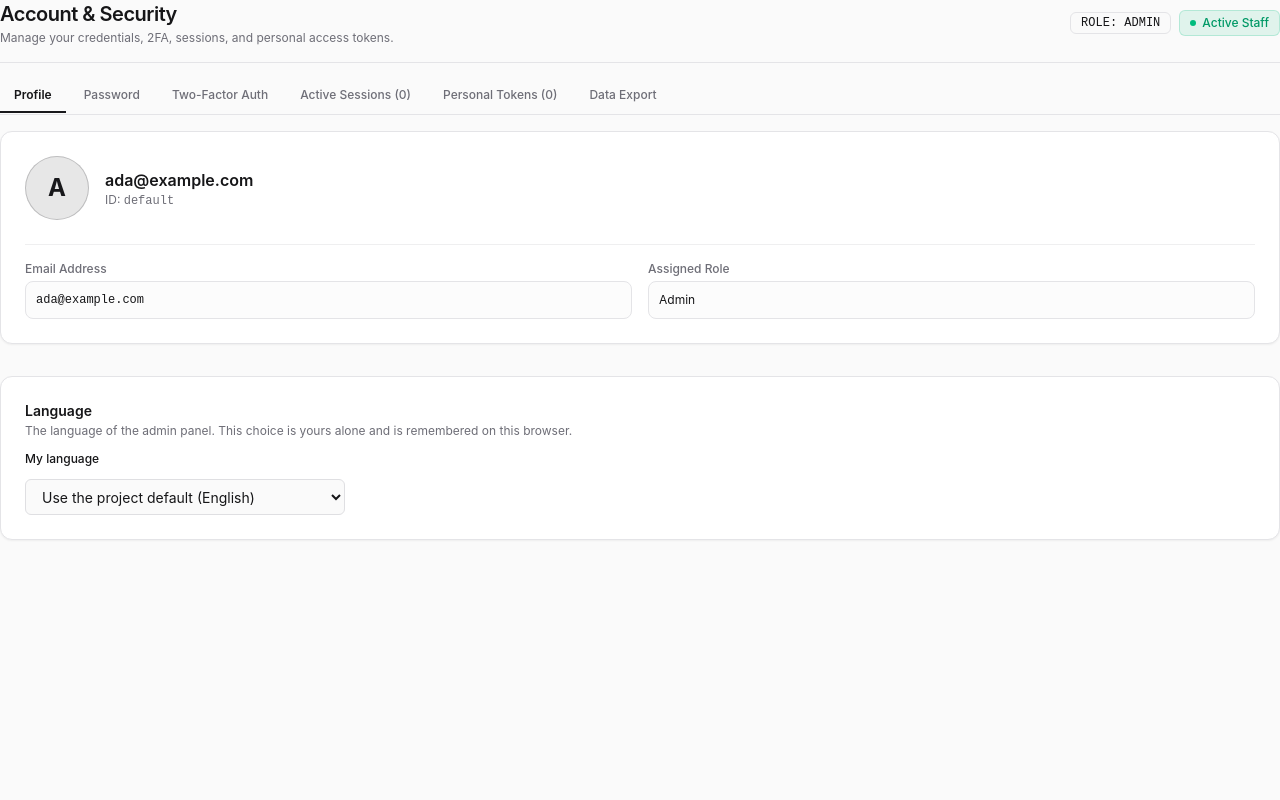
Scenario: AccountView › creates a personal token and shows it once for copying
Click the button "Personal Tokens (0)" at (500, 96), box [429, 79, 571, 113]
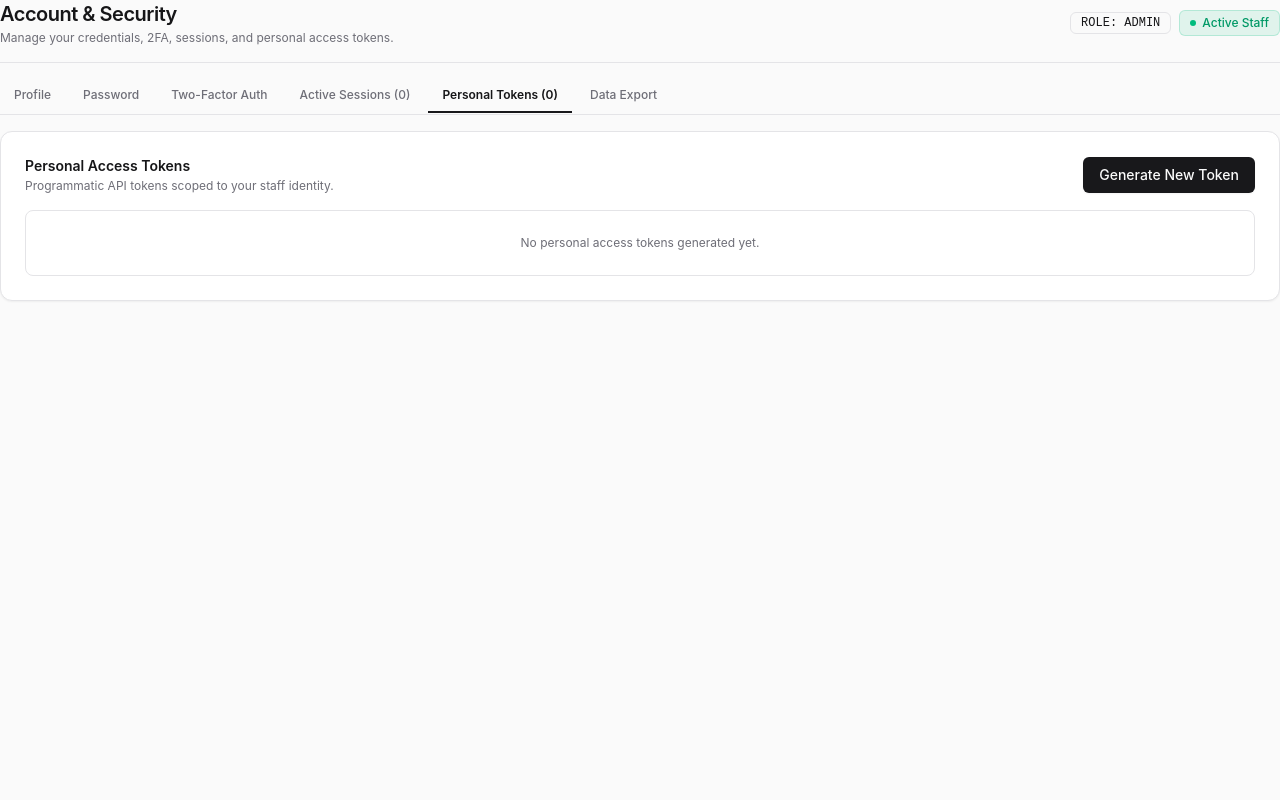
Click the button "Generate New Token" at (1169, 175), box [1083, 157, 1255, 193]
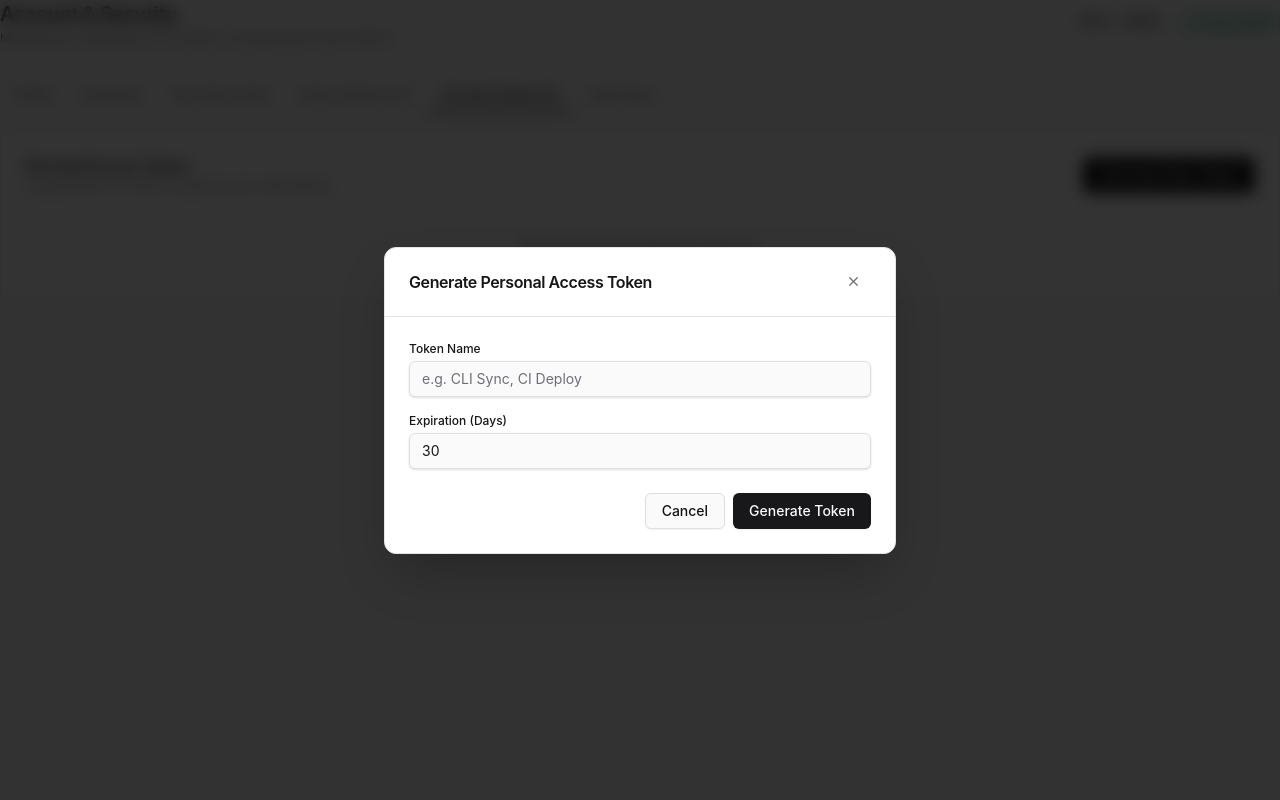
Type "CI token" into the field labelled "Token Name" at (640, 378), box [409, 360, 871, 396]
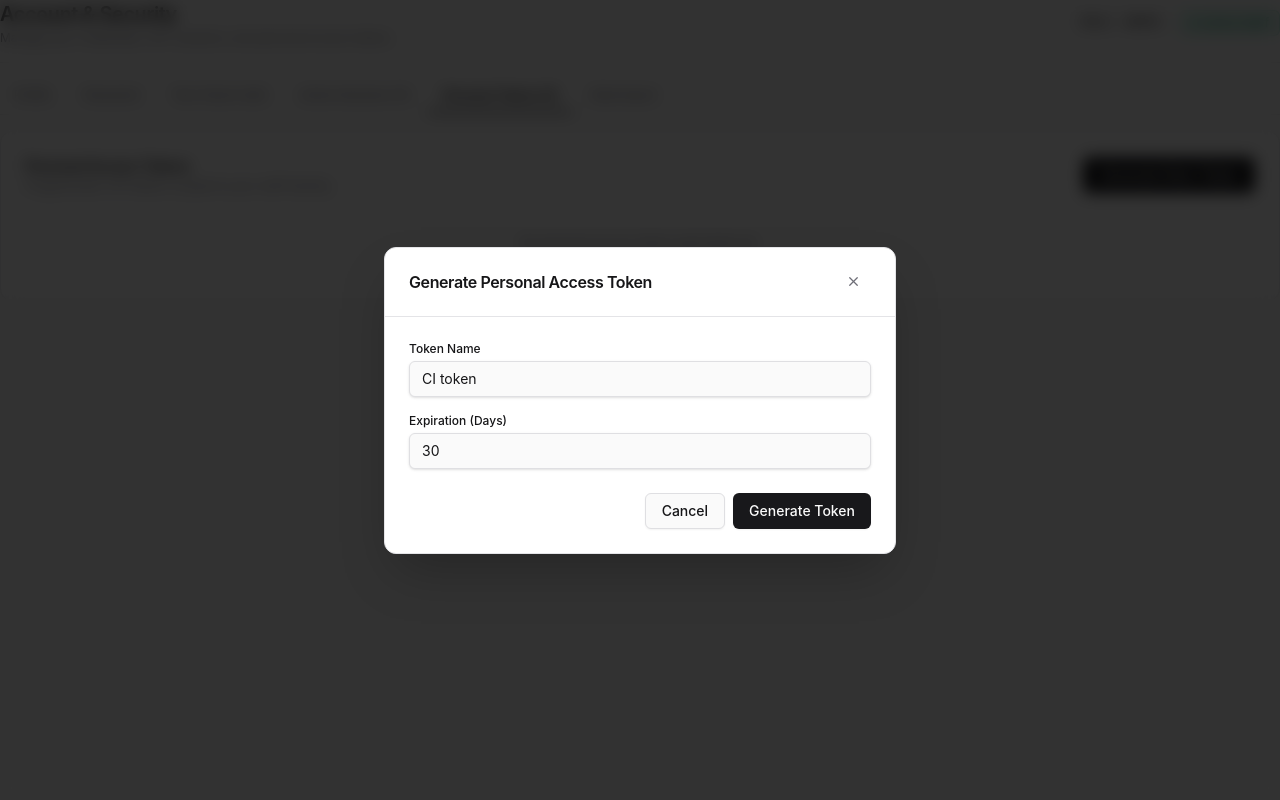
Click the button "Generate Token" at (802, 510), box [733, 492, 871, 528]
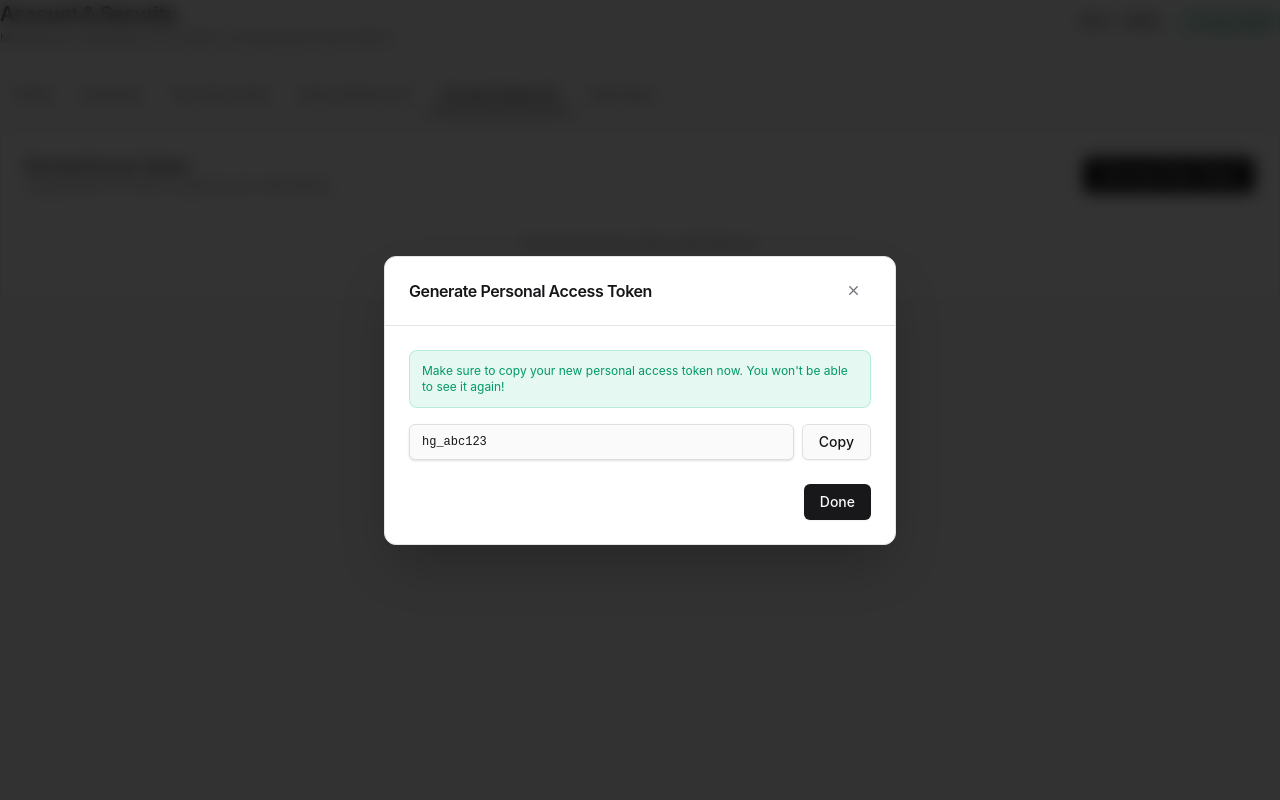
Now the field showing "hg_abc123" is shown, box [409, 424, 794, 460]
